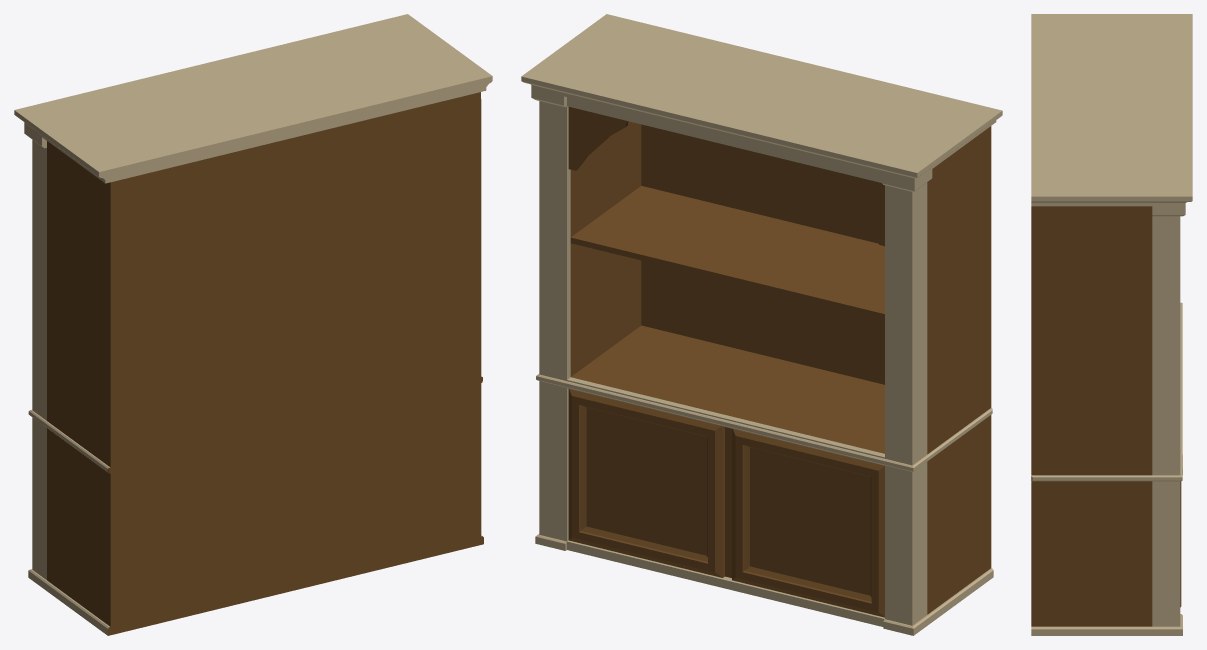
The model's file is Bookshelf_Big.fbx.
3 views of the same model, side by side, from view 1: azimuth 30°, elevation 25°; view 2: azimuth 150°, elevation 25°; view 3: azimuth 270°, elevation 25° (orthographic). The views are drawn at different scales.
Parts seen in each view (by area): view 1: pCube508; view 2: pCube508; view 3: pCube508.
Boxes of the visible parts, x1,y1,x2,y2 form: pCube508: [14, 14, 492, 635]; pCube508: [521, 14, 1002, 635]; pCube508: [1031, 14, 1192, 635].
Bounding box in the file's own units: 2.2 × 2.49 × 0.8213.
